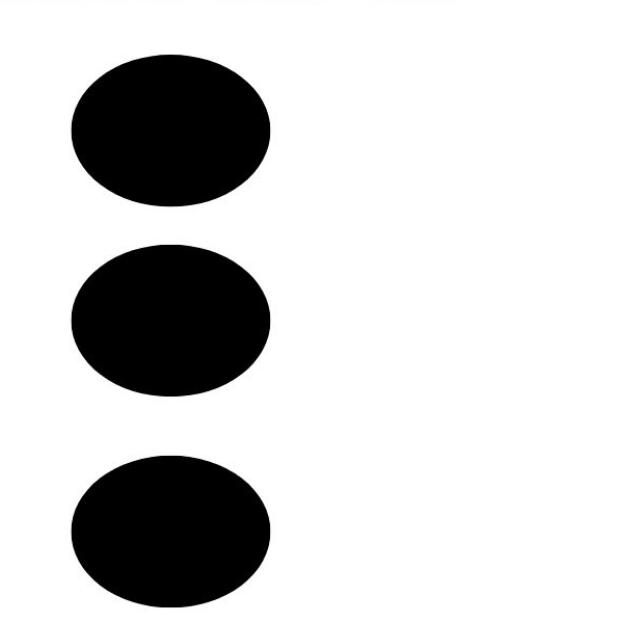letter_l: (71, 56, 564, 606)
